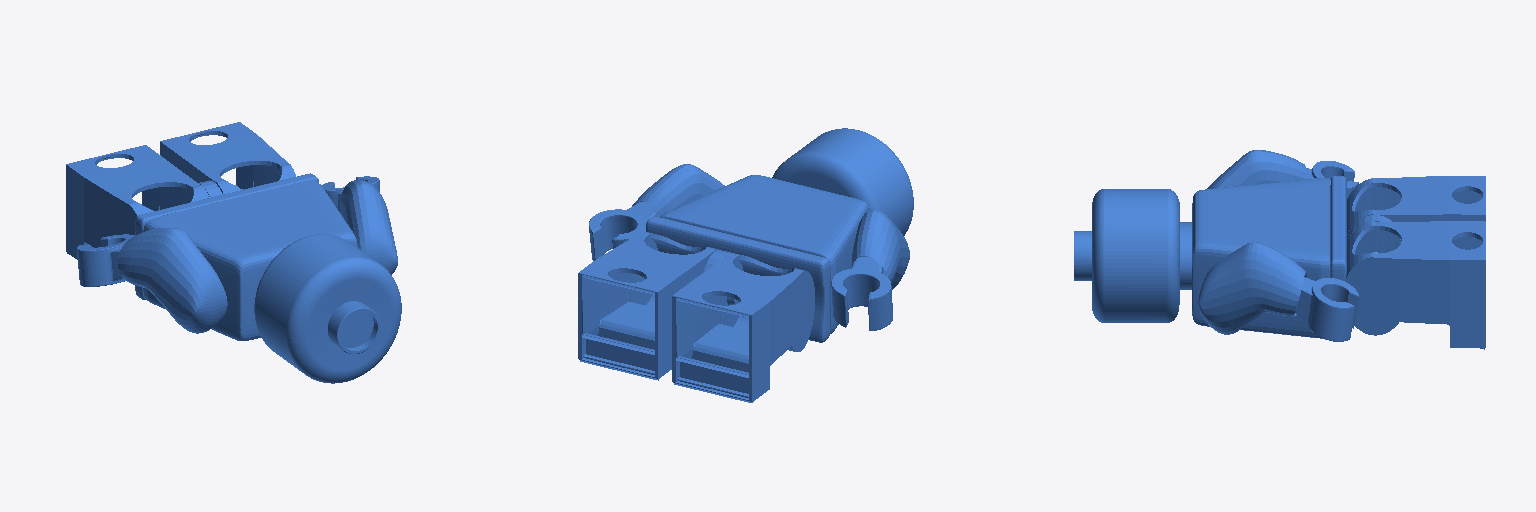
File: persodarth.obj
The picture shows the model from 3 angles: view 1: azimuth 30°, elevation 25°; view 2: azimuth 150°, elevation 25°; view 3: azimuth 270°, elevation 25°; orthographic projection.
Visible parts, largest first — view 1: lego_obj.002; view 2: lego_obj.002; view 3: lego_obj.002.
Part boxes in pixels (x1,y1,x2,y2): lego_obj.002: (66,122,401,383); lego_obj.002: (578,128,913,402); lego_obj.002: (1074,150,1485,349).
Size of the model in its own units: 2.82 by 1.11 by 3.38.